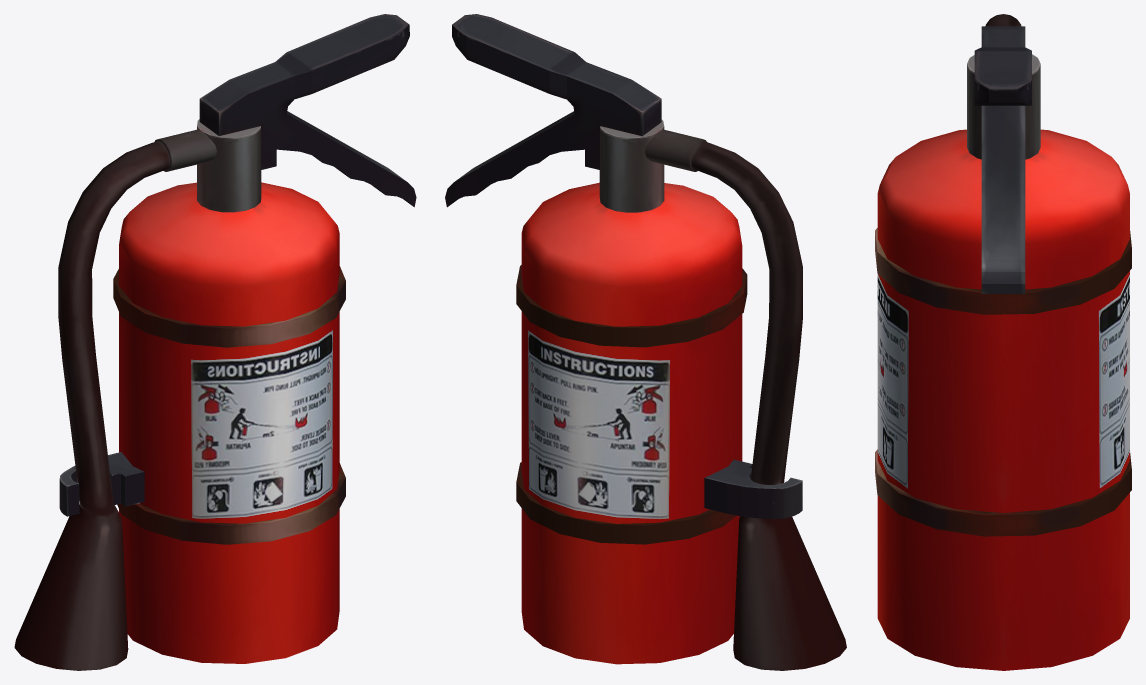
The model's file is miehuoqi.fbx.
3 renders of one model, left to right at view 1: azimuth 30°, elevation 25°; view 2: azimuth 150°, elevation 25°; view 3: azimuth 270°, elevation 25°, orthographic. The views are drawn at different scales.
Parts seen in each view (by area): view 1: miehuoqi; view 2: miehuoqi; view 3: miehuoqi.
Boxes of the visible parts, bbox=[...] form: miehuoqi: bbox=[14, 14, 416, 670]; miehuoqi: bbox=[445, 14, 846, 670]; miehuoqi: bbox=[875, 14, 1131, 670].
Bounding box in the file's own units: 18.92 × 26.07 × 9.71.
